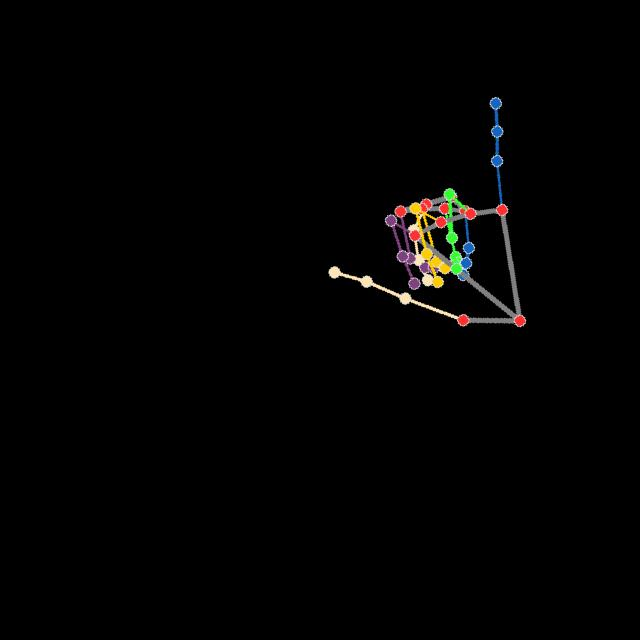skr: (324, 94, 529, 332)
